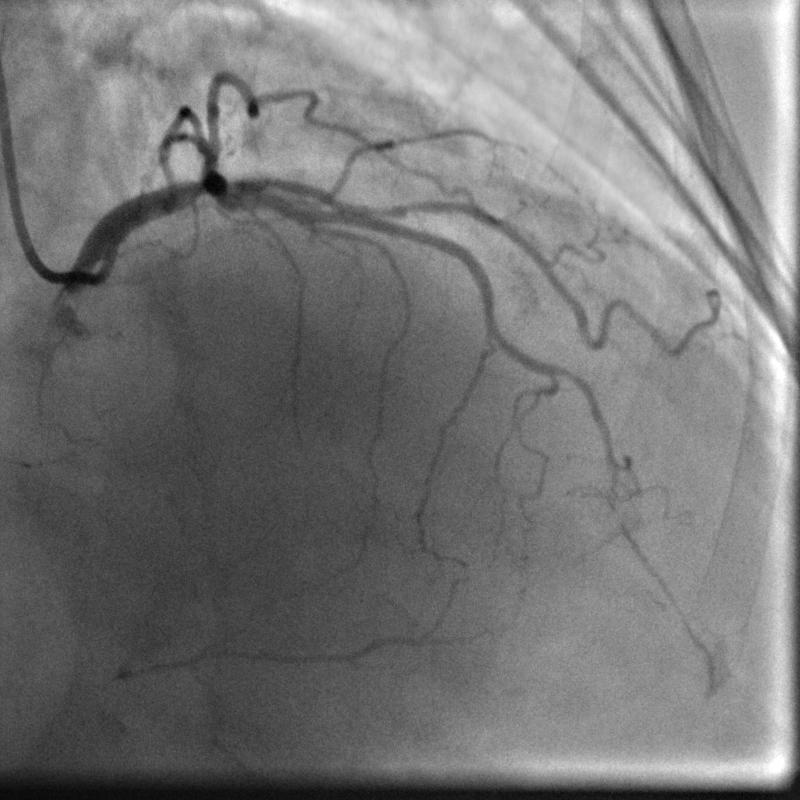Stenosis: (358, 188, 451, 225)
